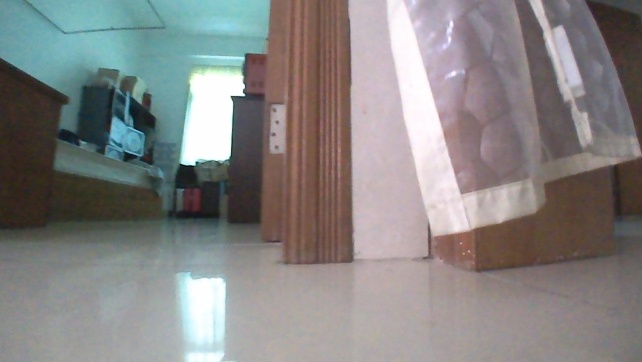bed1: (48, 137, 165, 221)
